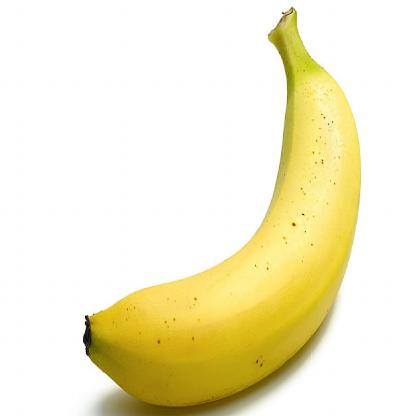banana: (83, 61, 367, 415)
